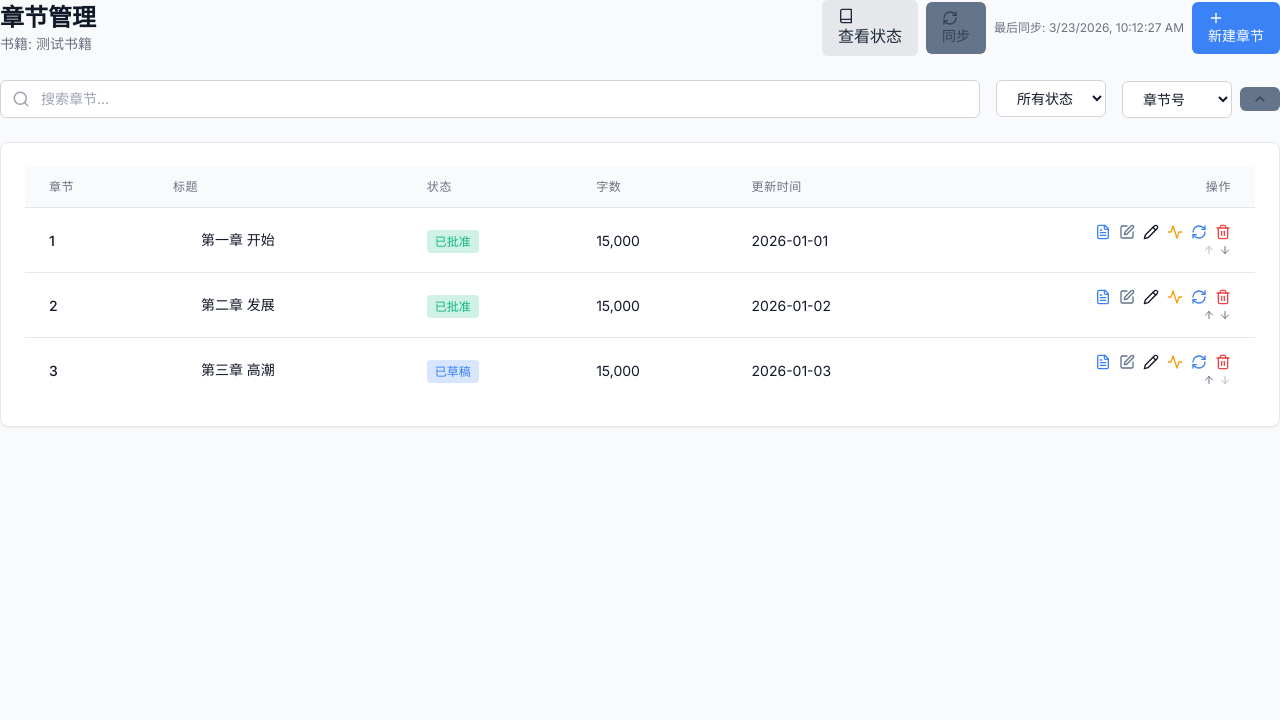
Scenario: Chapters Component › opens create chapter modal when clicking new chapter button
Click the button "新建章节": (1236,28) [1192,2,1279,54]
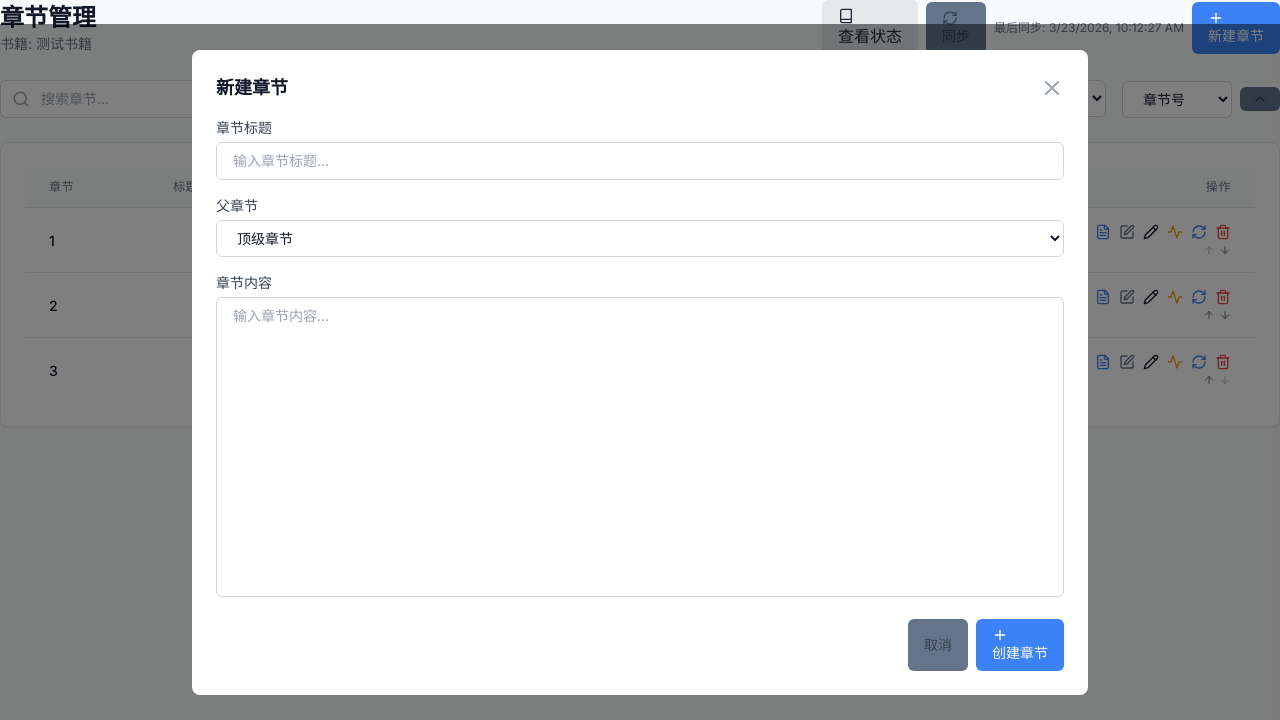
expect the text "章节标题" is shown: met, box [216,118,272,136]
expect the text "章节内容" is shown: met, box [216,274,272,290]
